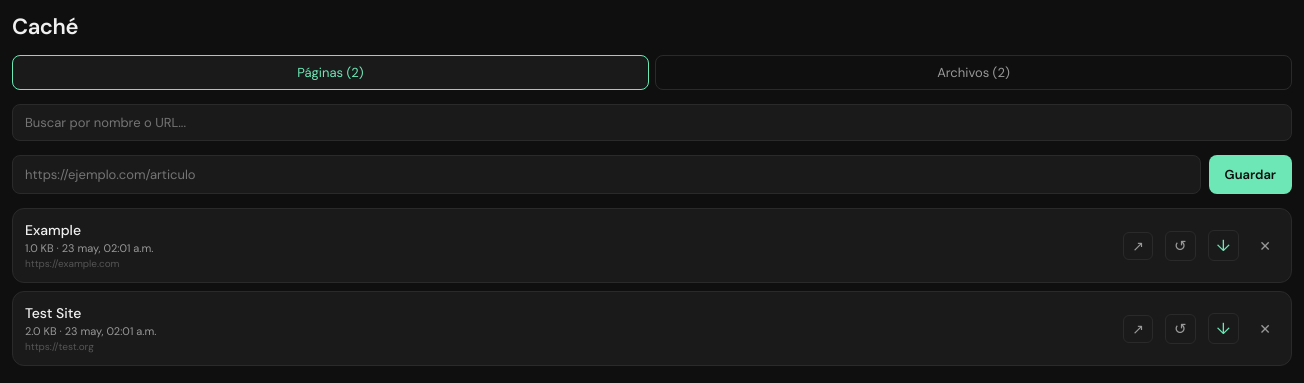
Test: CachePage › el buscador filtra páginas por título
In the field with placeholder "Buscar por nombre o URL...": [652, 122] box [12,104,1292,141], type "Example"
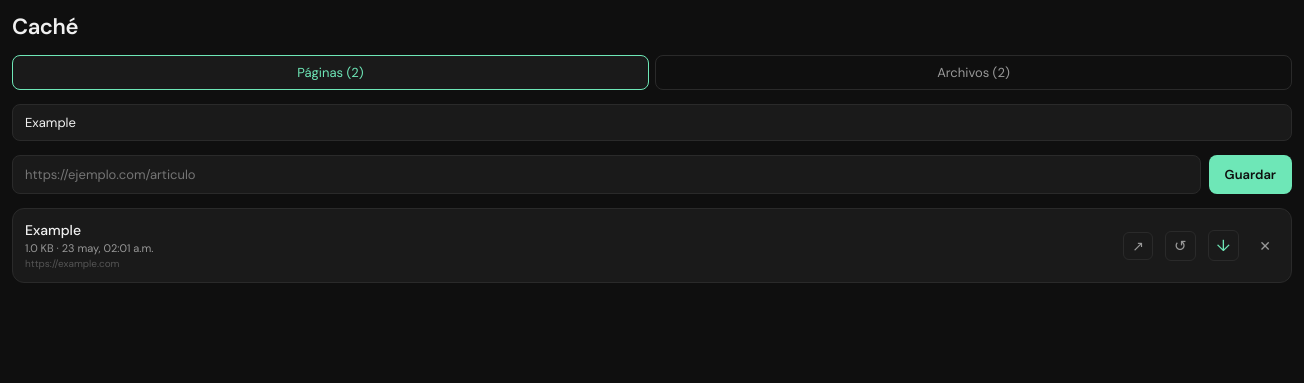
expect the text "Example" is shown: met, box [25,221,81,239]
expect the text "Test Site" is gone: met
